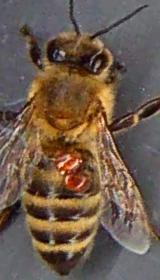varroa_mite: (60, 170, 95, 200), (52, 144, 87, 170)
